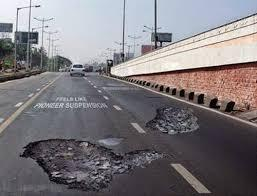Pothole: (26, 125, 161, 196), (138, 96, 212, 140)
